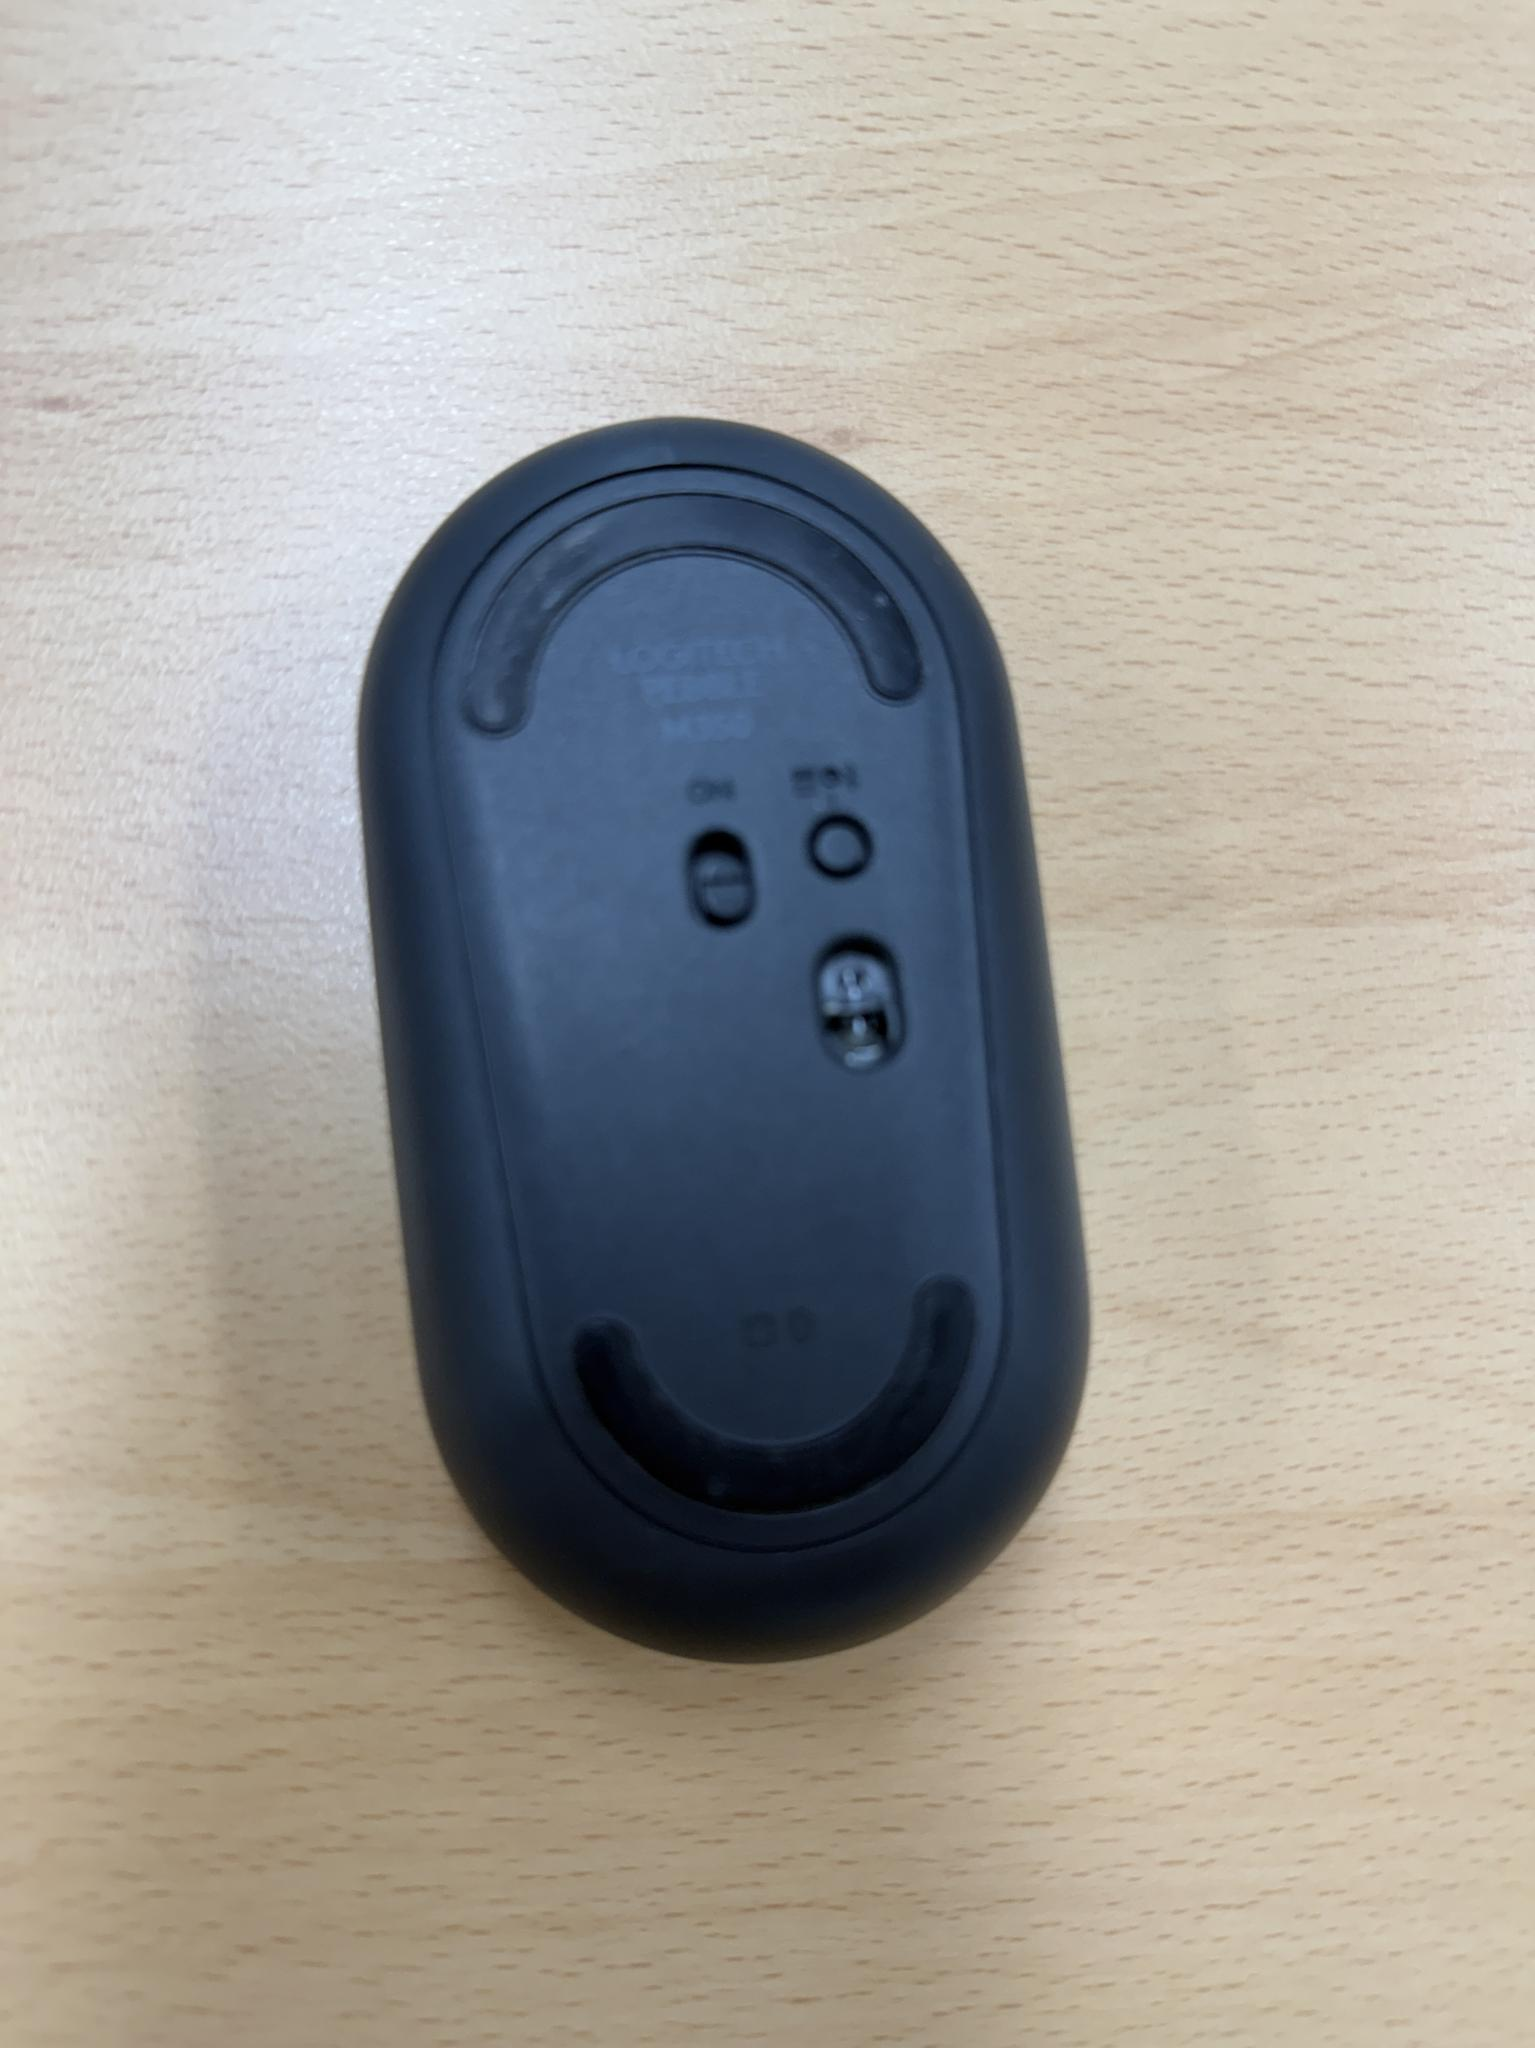back: (348, 403, 1103, 1664)
